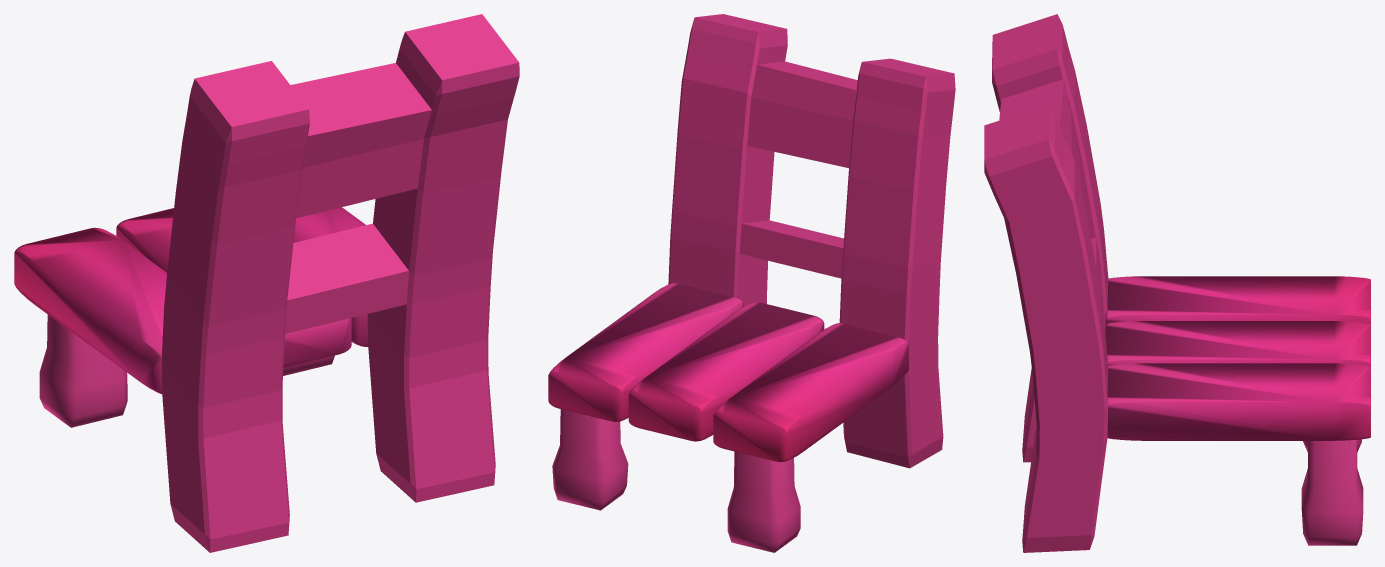
The model's file is sandaleye_tumm.fbx.
The picture shows the model from 3 angles, left to right: view 1: azimuth 30°, elevation 25°; view 2: azimuth 150°, elevation 25°; view 3: azimuth 270°, elevation 25°; orthographic projection. The views are drawn at different scales.
Parts seen in each view (by area): view 1: sandalye_tüm; view 2: sandalye_tüm; view 3: sandalye_tüm.
Boxes of the visible parts, left/top/right/bottom form: sandalye_tüm: left=14, top=14, right=519, bottom=552; sandalye_tüm: left=548, top=14, right=955, bottom=552; sandalye_tüm: left=984, top=14, right=1370, bottom=552.
Bounding box in the file's own units: 237 × 356 × 301.
1 material, 1 textured.
